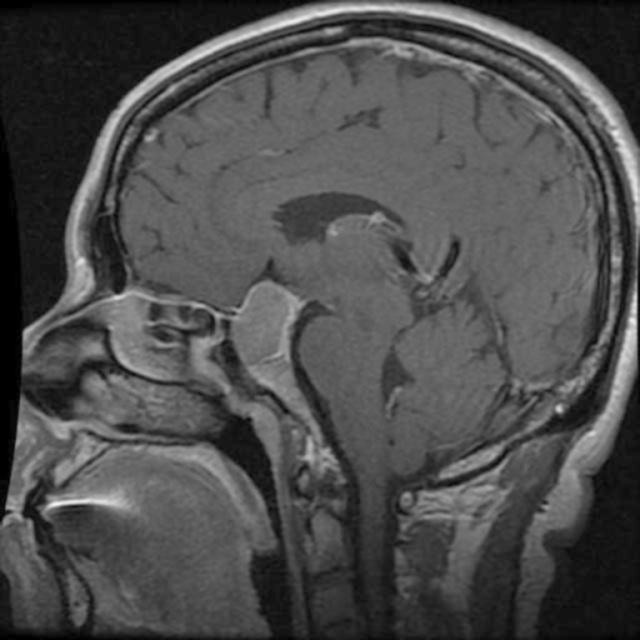no tumor: (232, 277, 290, 368)
